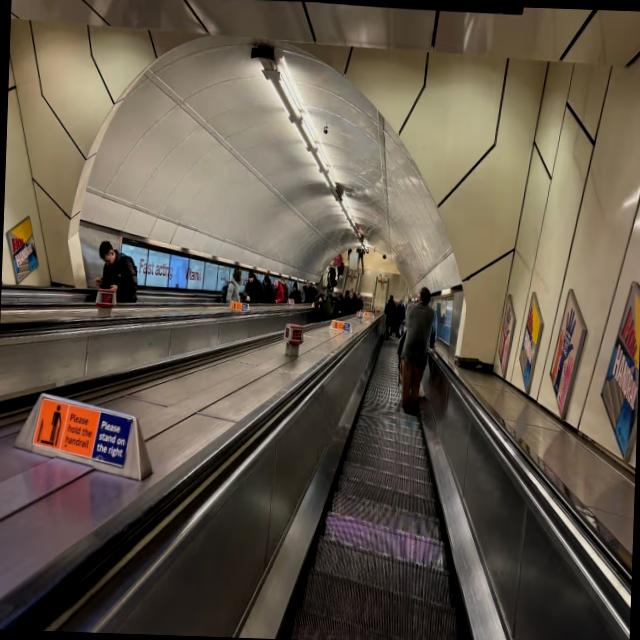escalator: (0, 270, 628, 640)
